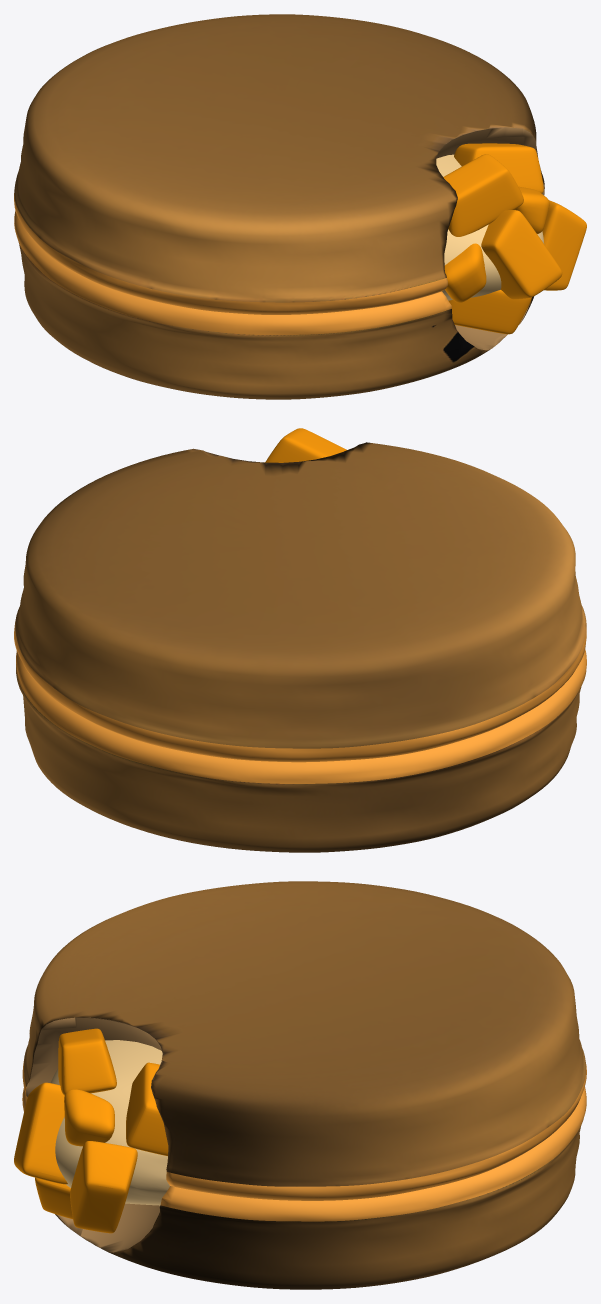
File: mango.glb
The picture shows the model from 3 angles, top to bottom: view 1: azimuth 30°, elevation 25°; view 2: azimuth 150°, elevation 25°; view 3: azimuth 270°, elevation 25°; orthographic projection. The views are drawn at different scales.
Visible parts, largest first — view 1: Cylinder, Cube.004, Cube, Cube.006, Cube.005, Cube.001, Mball.002, Cube.003, Cube.002; view 2: Cylinder, Cube; view 3: Cylinder, Mball.002, Cube.005, Cube.004, Cube, Cube.001, Cube.002, Cube.006.
Part boxes in pixels (x1,y1,x2,y2): Cylinder: [14, 14, 544, 399]; Cube.004: [481, 210, 562, 299]; Cube: [443, 154, 523, 236]; Cube.006: [448, 290, 531, 334]; Cube.005: [542, 200, 586, 290]; Cube.001: [454, 143, 543, 193]; Mball.002: [436, 154, 544, 300]; Cube.003: [444, 243, 486, 302]; Cube.002: [514, 186, 549, 233]; Cylinder: [14, 442, 586, 852]; Cube: [265, 428, 346, 462]; Cylinder: [22, 881, 586, 1289]; Mball.002: [50, 1040, 169, 1205]; Cube.005: [70, 1141, 137, 1233]; Cube.004: [14, 1082, 67, 1184]; Cube: [58, 1028, 116, 1095]; Cube.001: [126, 1062, 168, 1155]; Cube.002: [64, 1089, 114, 1146]; Cube.006: [35, 1177, 72, 1219].
Size of the model in its own units: 2.07 by 0.8211 by 2.11.
5 materials, 1 textured.
